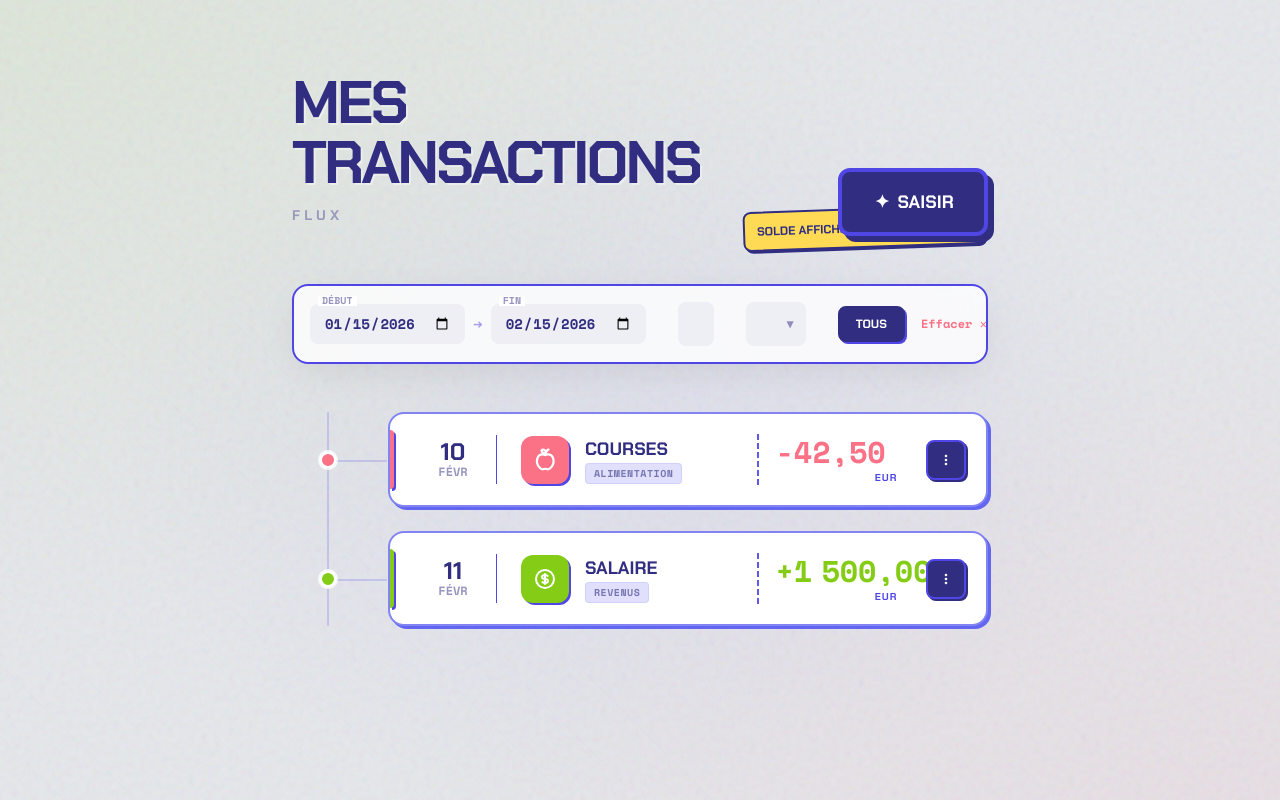
Test case: US11 - Suppression transaction › Après suppression réussie, un toast confirme la suppression
Click the button titled "Actions" next to "42,50" at (946, 460), box 926,440 -> 966,480
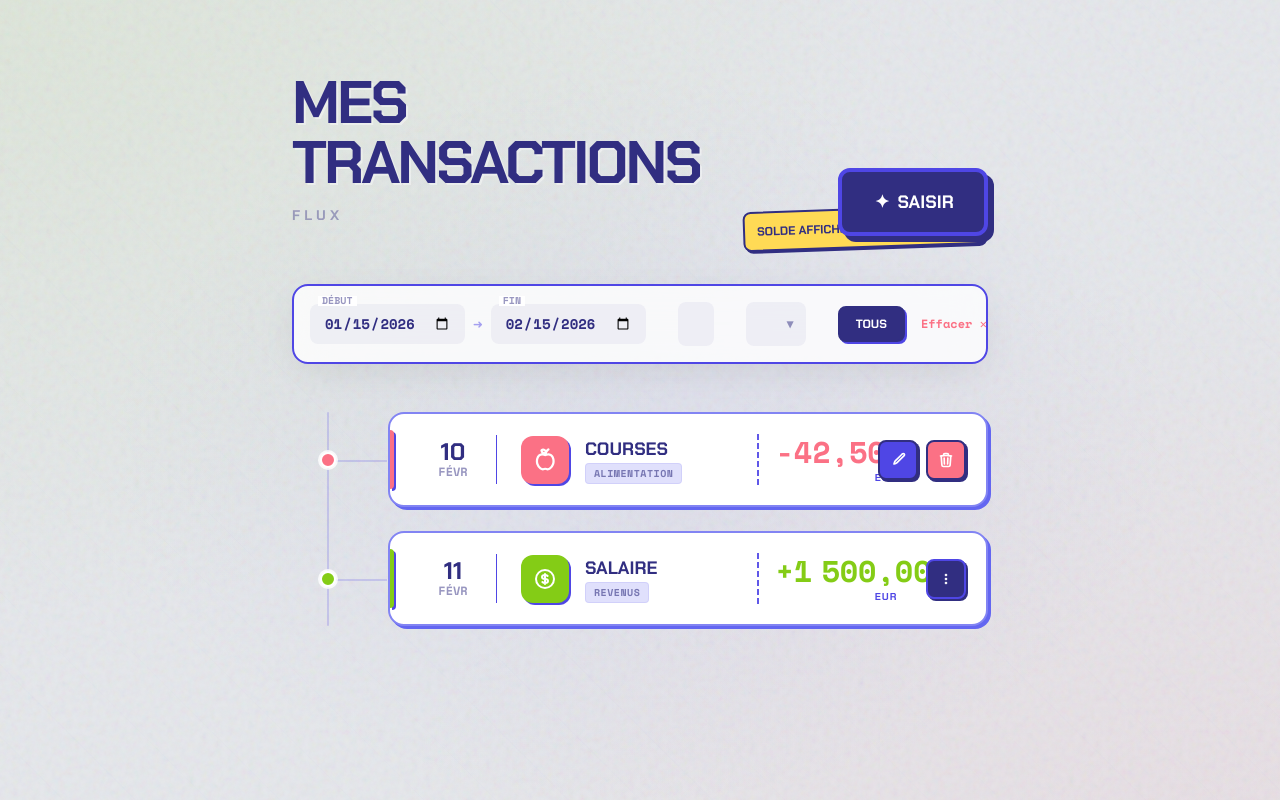
Click the button titled "Supprimer" at (946, 460), box 926,440 -> 966,480
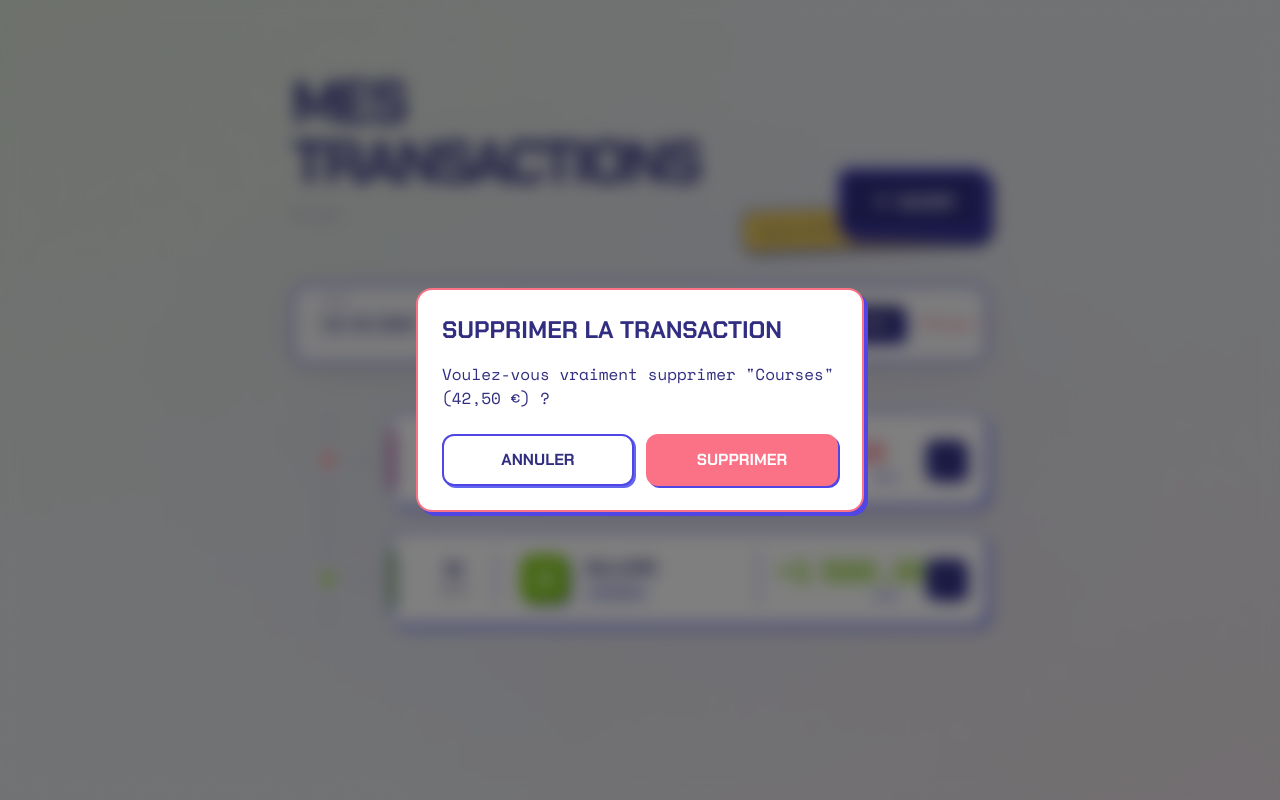
Expected: the heading "Supprimer la transaction" is shown, 442,314 -> 838,346
Click the button "Supprimer" at (742, 460), box 646,434 -> 838,486
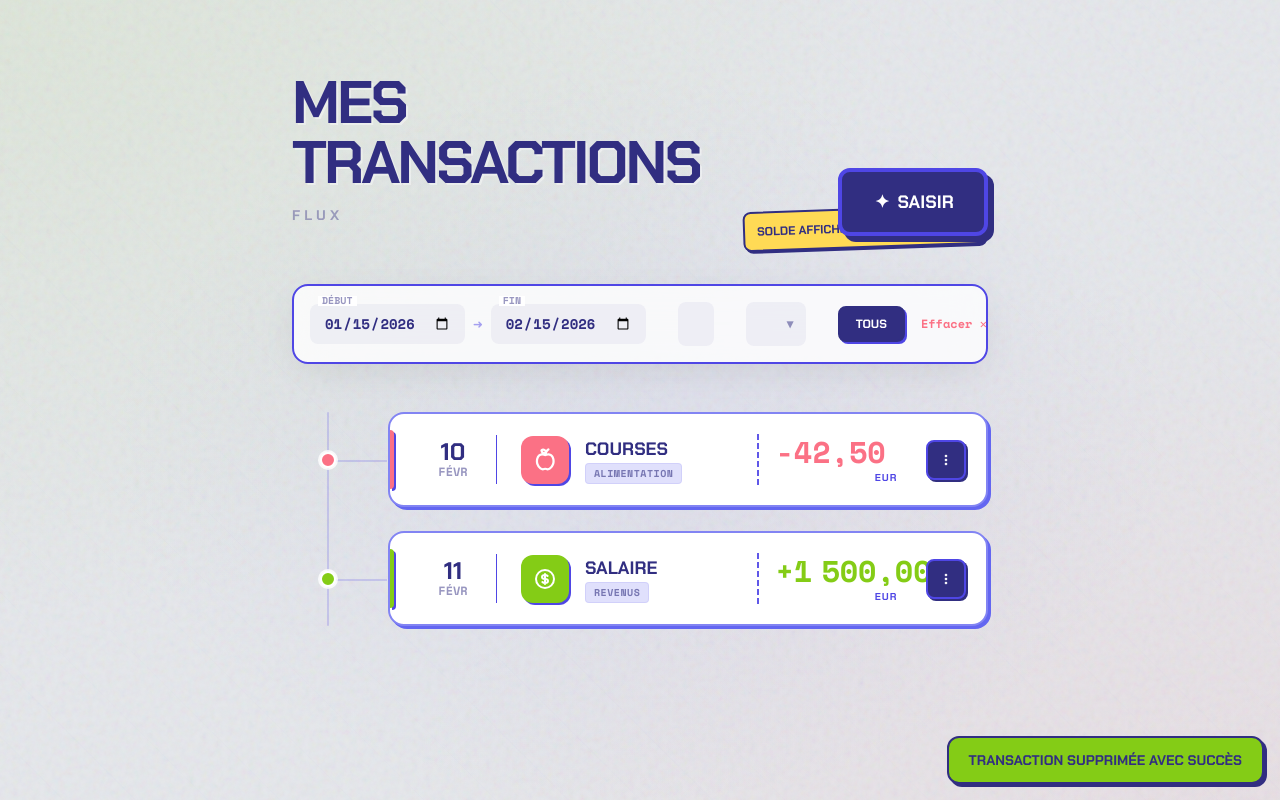
Expected: the text "Transaction supprimée avec succès" is shown, 947,736 -> 1264,784
